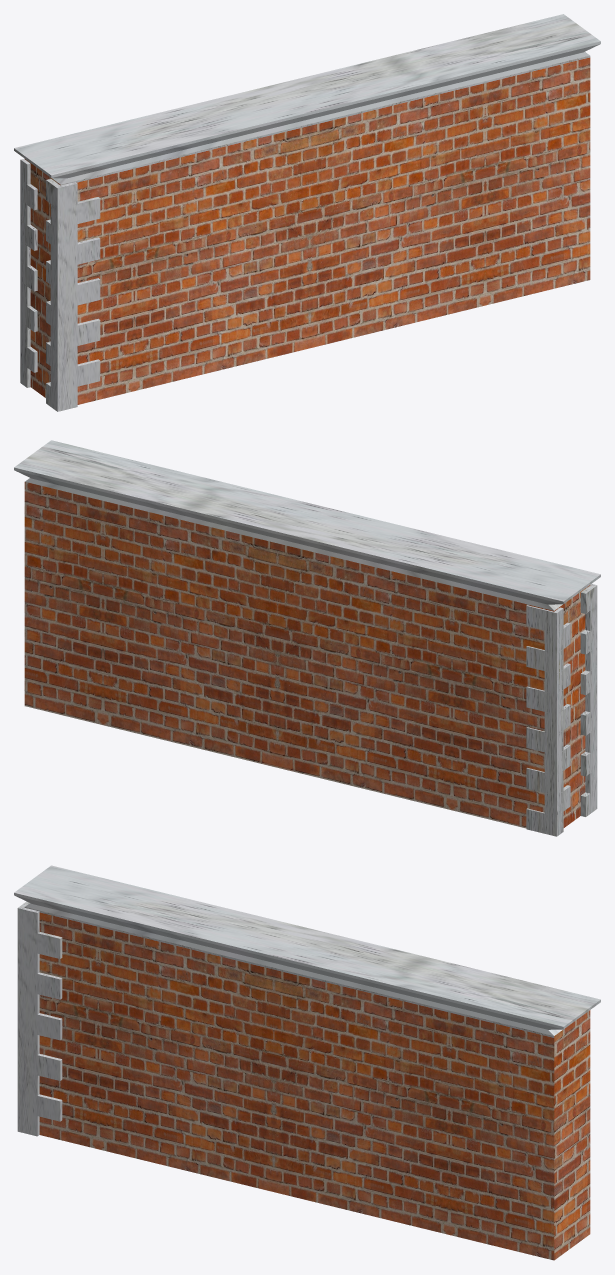
The model's file is Wall_Bricks.fbx.
3 renders of one model, top to bottom at view 1: azimuth 30°, elevation 25°; view 2: azimuth 150°, elevation 25°; view 3: azimuth 330°, elevation 25°, orthographic.
Parts seen in each view (by area): view 1: Wall_Bricks_LOD0; view 2: Wall_Bricks_LOD0; view 3: Wall_Bricks_LOD0.
Boxes of the visible parts, <box> form: Wall_Bricks_LOD0: <box>14,14,600,411</box>; Wall_Bricks_LOD0: <box>14,440,600,836</box>; Wall_Bricks_LOD0: <box>14,865,600,1260</box>.
Size of what is drawn, in the model's own units: 1765 by 726 by 216.
